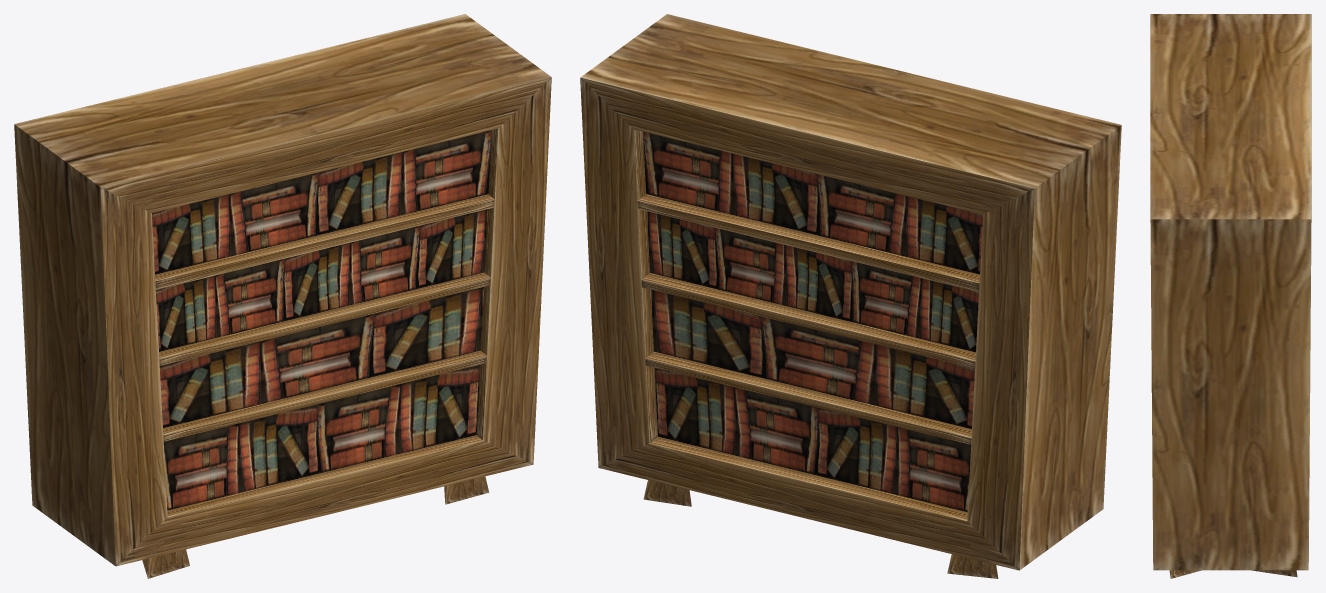
File: abbeyshelf02.obj
The picture shows the model from 3 angles, left to right: view 1: azimuth 30°, elevation 25°; view 2: azimuth 150°, elevation 25°; view 3: azimuth 270°, elevation 25°; orthographic projection. The views are drawn at different scales.
Visible parts, largest first — view 1: abbeyshelf02.m2; view 2: abbeyshelf02.m2; view 3: abbeyshelf02.m2.
Boxes of the visible parts, box(x1,y1,x2,y2) form: abbeyshelf02.m2: box(14, 14, 551, 578); abbeyshelf02.m2: box(580, 14, 1121, 578); abbeyshelf02.m2: box(1150, 14, 1311, 578).
Size of the model in its own units: 5.44 by 4.73 by 1.8.
Materials: 1 (1 with a texture image).
